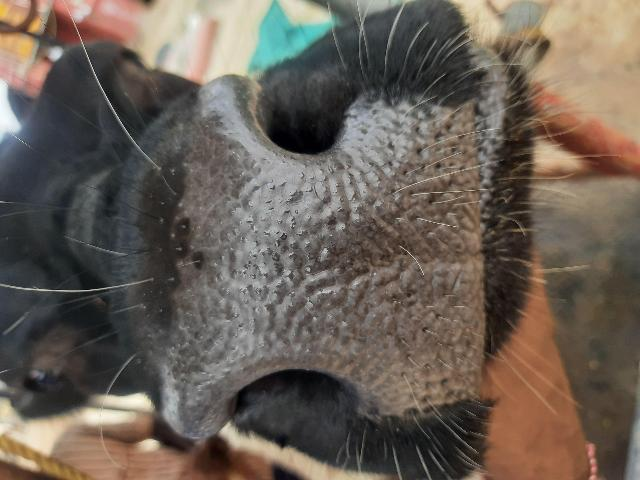Muzzle: (197, 149, 473, 361)
